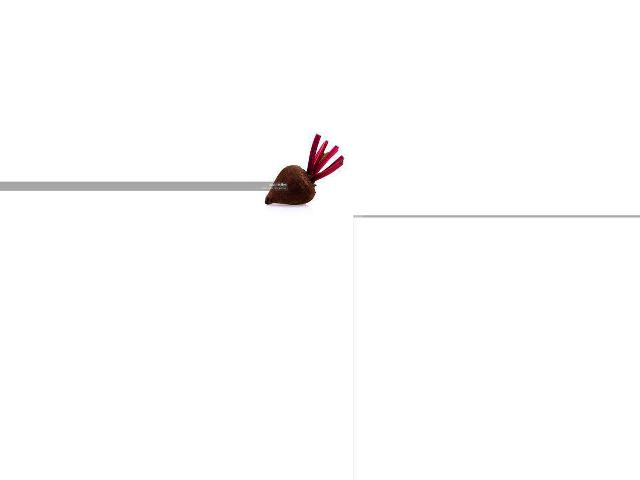beet: (264, 134, 343, 205)
